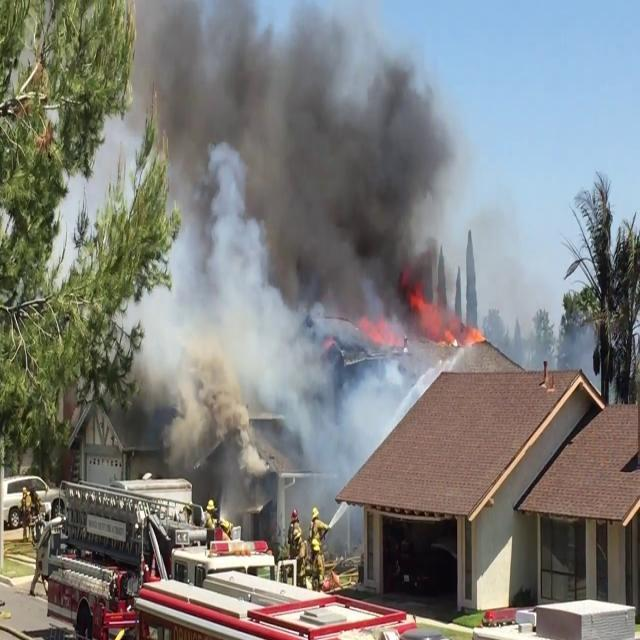Smoke: (125, 1, 458, 520)
